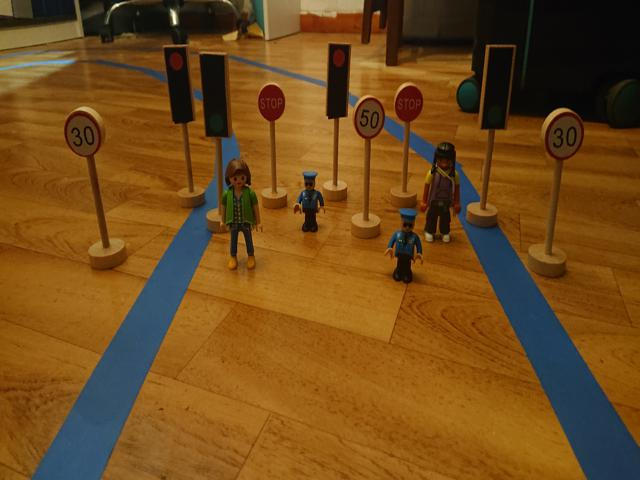30 speed sign: (63, 112, 106, 159), (546, 112, 583, 162)
50 speed sign: (353, 93, 386, 139)
green light: (202, 56, 225, 138), (487, 50, 508, 130)
person: (215, 159, 262, 270), (422, 144, 460, 244), (381, 208, 427, 288), (288, 170, 327, 234)
red light: (165, 46, 188, 114), (328, 46, 347, 114)
stop sign: (394, 85, 424, 121), (258, 84, 285, 120)
